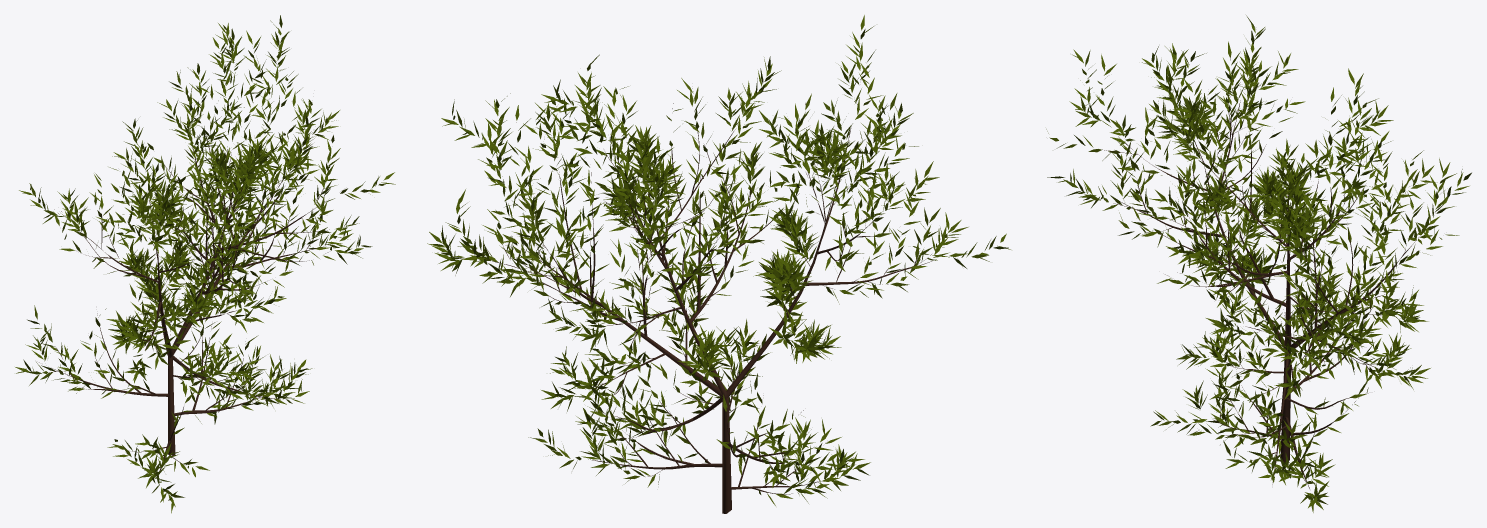
Rendered from Bush1.fbx.
3 views of the same model, side by side, from view 1: azimuth 30°, elevation 25°; view 2: azimuth 150°, elevation 25°; view 3: azimuth 270°, elevation 25° (orthographic). The views are drawn at different scales.
Parts seen in each view (by area): view 1: bush; view 2: bush; view 3: bush.
Boxes of the visible parts, box(x1,y1,x2,y2) form: bush: box(15, 15, 395, 513); bush: box(427, 15, 1010, 513); bush: box(1046, 15, 1471, 512).
Size of the model in its own units: 3.21 by 3.3 by 2.94.
